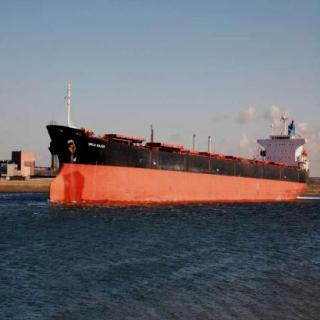Bulk Carrier: (42, 107, 299, 208)
